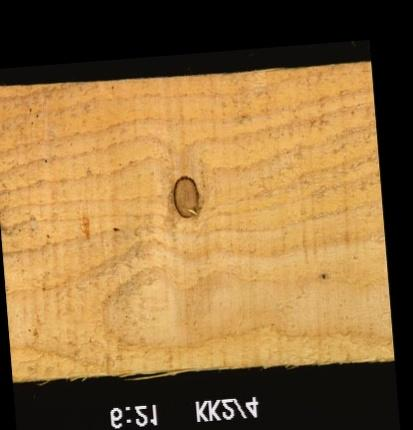dry_knot: (170, 174, 200, 219)
small_knot: (319, 271, 325, 280)
